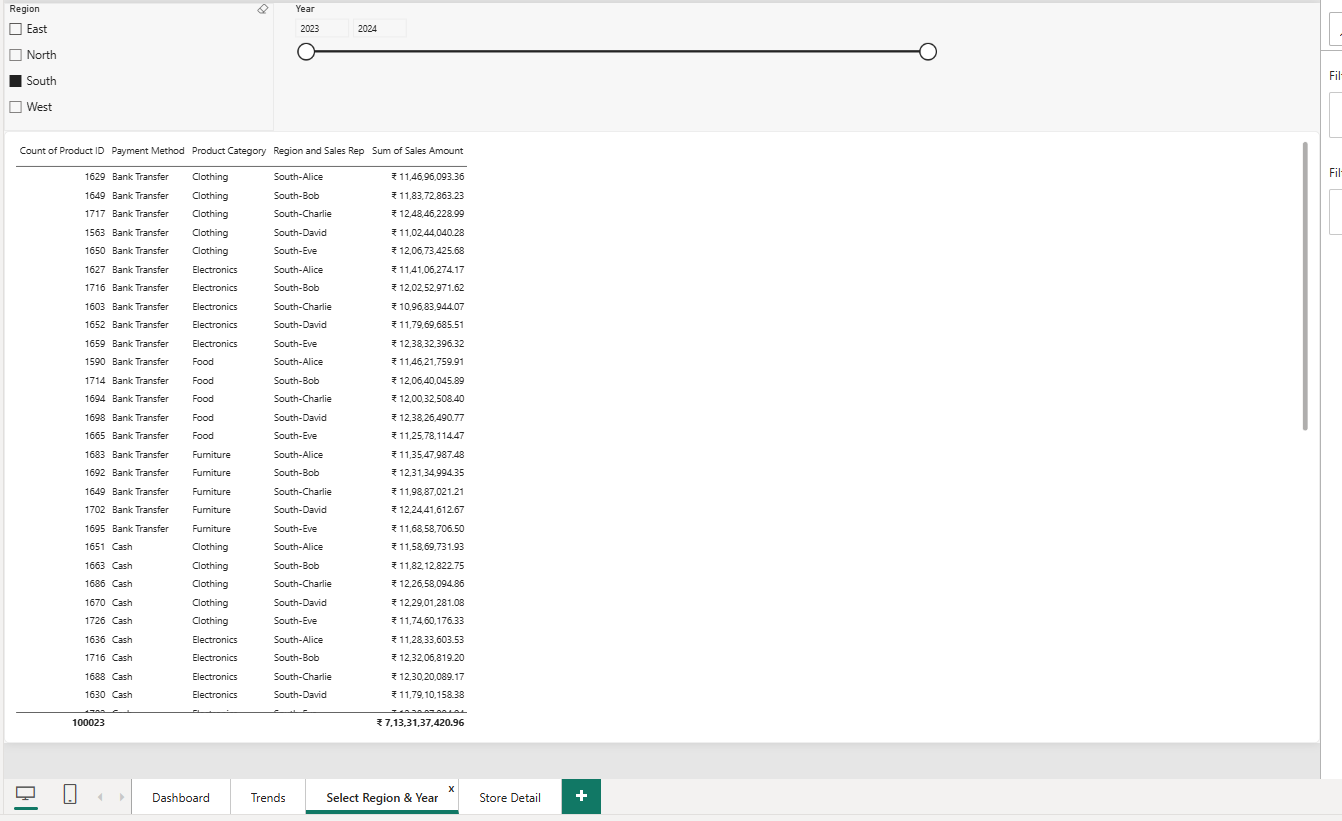

This screenshot's page, from the dashboard's own definition file:
{"tool":"powerbi","page":{"name":"Select Region & Year","canvas":[1920,1080],"ordinal":2},"visuals":[{"type":"slicer","fields":{"Values":["Date.Year"]},"box":[417.3,0,946.9,186.7],"z":0},{"type":"slicer","fields":{"Values":["Store.Region"]},"box":[0,0,393.9,186.7],"z":1000},{"type":"tableEx","fields":{"Values":["CountNonNull(Sales.Product ID)","Sales.Payment Method","Sales.Product Category","Store.Region and Sales Rep","Sum(Sales.Sales Amount)"]},"box":[0,186.7,1920,892.9],"z":2000}]}

Visuals, with their boxes on the page's 1920x1080 design canvas (x1, y1, x2, y2). These are canvas units, not pixel positions in the 1342x821 screenshot, which may show the page scaled, cropped or inside an application window:
slicer - Date.Year: 417,0,1364,187
slicer - Store.Region: 0,0,394,187
tableEx - CountNonNull(Sales.Product ID) x Sales.Payment Method: 0,187,1920,1080
